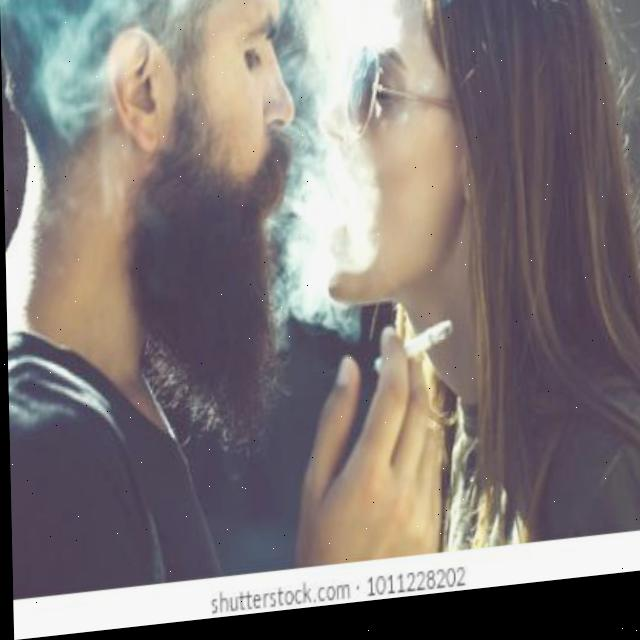cigarette: (372, 329, 451, 384)
